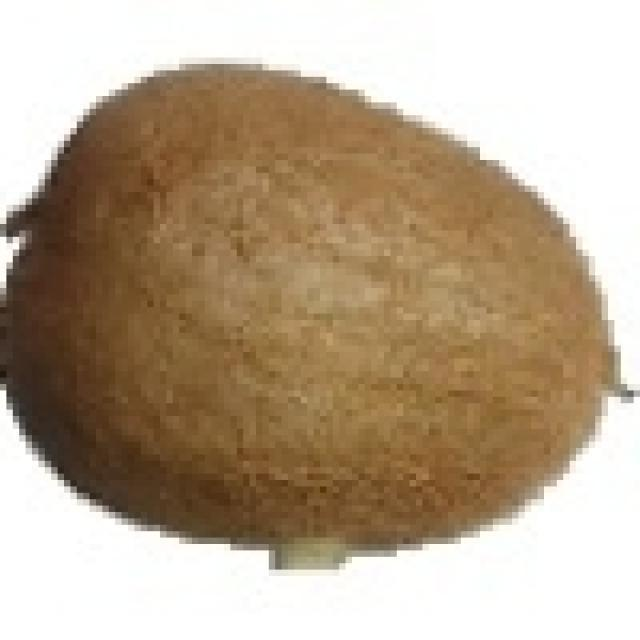kiwi: (19, 58, 614, 550)
